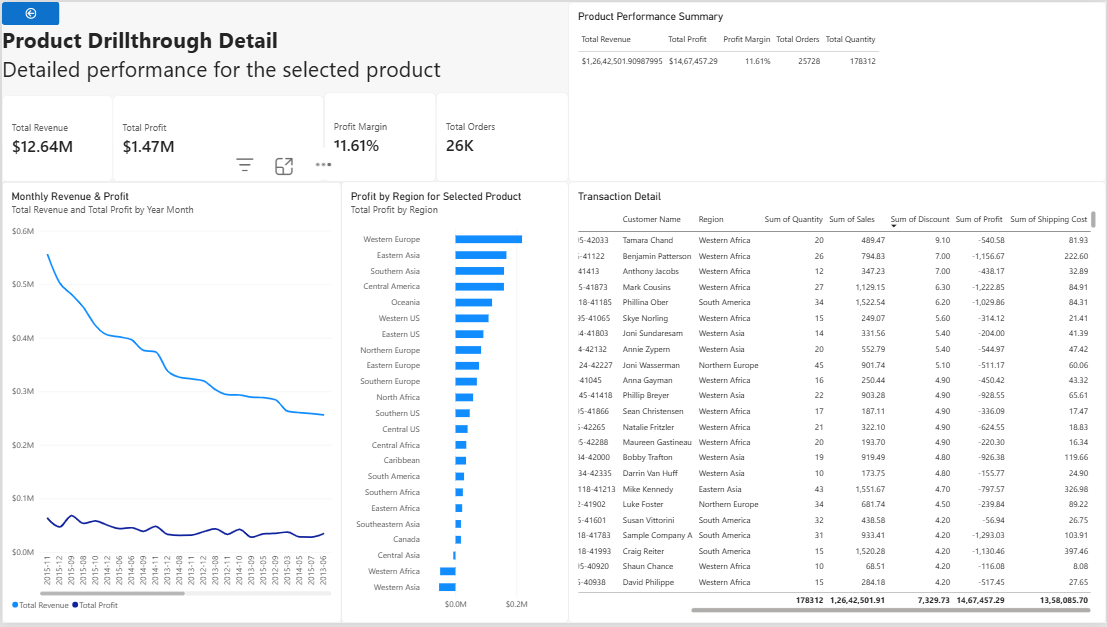

The dashboard page shown, as its layout file describes it:
{"tool":"powerbi","page":{"name":"Drillthrough Detail","canvas":[1920,1080],"ordinal":4},"visuals":[{"type":"textbox","box":[0,40,1370,145],"z":0},{"type":"actionButton","box":[0,0,100,40],"z":1000},{"type":"actionButton","box":[0,0,100,40],"z":2000},{"type":"cardVisual","fields":{"Data":["CLEAN_GlobalSuperstore_2016.Total Revenue"]},"box":[0,162.5,192.5,150],"z":3000},{"type":"cardVisual","fields":{"Data":["CLEAN_GlobalSuperstore_2016.Total Profit"]},"box":[192.5,162.5,367.5,150],"z":4000},{"type":"cardVisual","fields":{"Data":["CLEAN_GlobalSuperstore_2016.Profit Margin"]},"box":[560,157.5,195,150],"z":5000},{"type":"cardVisual","fields":{"Data":["CLEAN_GlobalSuperstore_2016.Total Orders"]},"box":[755,157.5,230,150],"z":6000},{"type":"lineClusteredColumnComboChart","title":"Monthly Revenue & Profit","fields":{"Category":["DateTable.Year Month"],"Y2":["CLEAN_GlobalSuperstore_2016.Total Revenue","CLEAN_GlobalSuperstore_2016.Total Profit"]},"box":[0,312.5,590,767.5],"z":7000},{"type":"tableEx","title":"Product Performance Summary","fields":{"Values":["CLEAN_GlobalSuperstore_2016.Total Revenue","CLEAN_GlobalSuperstore_2016.Total Profit","CLEAN_GlobalSuperstore_2016.Profit Margin","CLEAN_GlobalSuperstore_2016.Total Orders","CLEAN_GlobalSuperstore_2016.Total Quantity"]},"box":[985,0,590,312.5],"z":8000},{"type":"tableEx","title":"Transaction Detail","fields":{"Values":["CLEAN_GlobalSuperstore_2016.Order Date","CLEAN_GlobalSuperstore_2016.Order ID","CLEAN_GlobalSuperstore_2016.Customer Name","CLEAN_GlobalSuperstore_2016.Region","Sum(CLEAN_GlobalSuperstore_2016.Quantity)","Sum(CLEAN_GlobalSuperstore_2016.Sales)","Sum(CLEAN_GlobalSuperstore_2016.Discount)","Sum(CLEAN_GlobalSuperstore_2016.Profit)","Sum(CLEAN_GlobalSuperstore_2016.Shipping Cost)"]},"box":[985,312.5,590,767.5],"z":9000},{"type":"clusteredBarChart","title":"Profit by Region for Selected Product","fields":{"Category":["CLEAN_GlobalSuperstore_2016.Region"],"Y":["CLEAN_GlobalSuperstore_2016.Total Profit"]},"box":[590,312.5,395,767.5],"z":10000}]}

Visuals, with their boxes in screenshot pixels (x1, y1, x2, y2), scaled from the page's 1920x1080 canvas onto the 1107x627 screenshot:
textbox: bbox=[0, 23, 790, 107]
actionButton: bbox=[0, 0, 58, 23]
actionButton: bbox=[0, 0, 58, 23]
cardVisual - CLEAN_GlobalSuperstore_2016.Total Revenue: bbox=[0, 94, 111, 181]
cardVisual - CLEAN_GlobalSuperstore_2016.Total Profit: bbox=[111, 94, 323, 181]
cardVisual - CLEAN_GlobalSuperstore_2016.Profit Margin: bbox=[323, 91, 435, 179]
cardVisual - CLEAN_GlobalSuperstore_2016.Total Orders: bbox=[435, 91, 568, 179]
"Monthly Revenue & Profit" lineClusteredColumnComboChart: bbox=[0, 181, 340, 626]
"Product Performance Summary" tableEx: bbox=[568, 0, 908, 181]
"Transaction Detail" tableEx: bbox=[568, 181, 908, 626]
"Profit by Region for Selected Product" clusteredBarChart: bbox=[340, 181, 568, 626]
